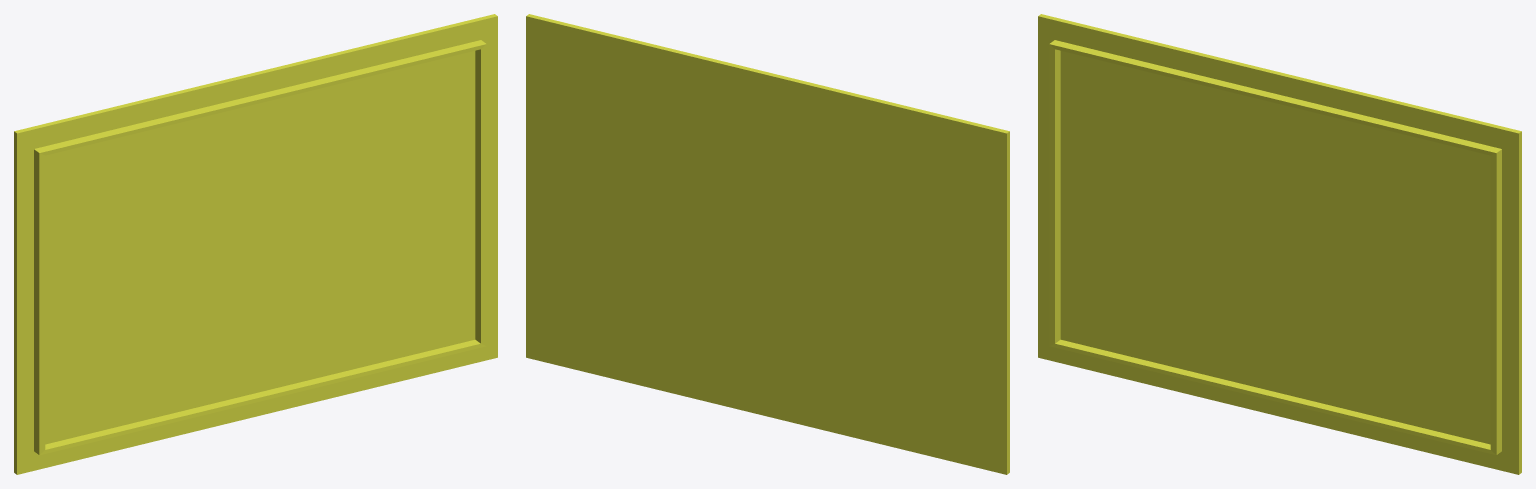
File: MODEL_NPC_Lanyardcard.fbx
3 renders of one model, left to right at view 1: azimuth 30°, elevation 25°; view 2: azimuth 150°, elevation 25°; view 3: azimuth 330°, elevation 25°, orthographic.
Visible parts, largest first — view 1: RobotBody.003; view 2: RobotBody.003; view 3: RobotBody.003.
Boxes of the visible parts, box(x1,y1,x2,y2) form: RobotBody.003: box(14, 14, 497, 474); RobotBody.003: box(526, 14, 1009, 474); RobotBody.003: box(1038, 14, 1521, 474).
Bounding box in the file's own units: 28.4 × 19.28 × 0.8844.
